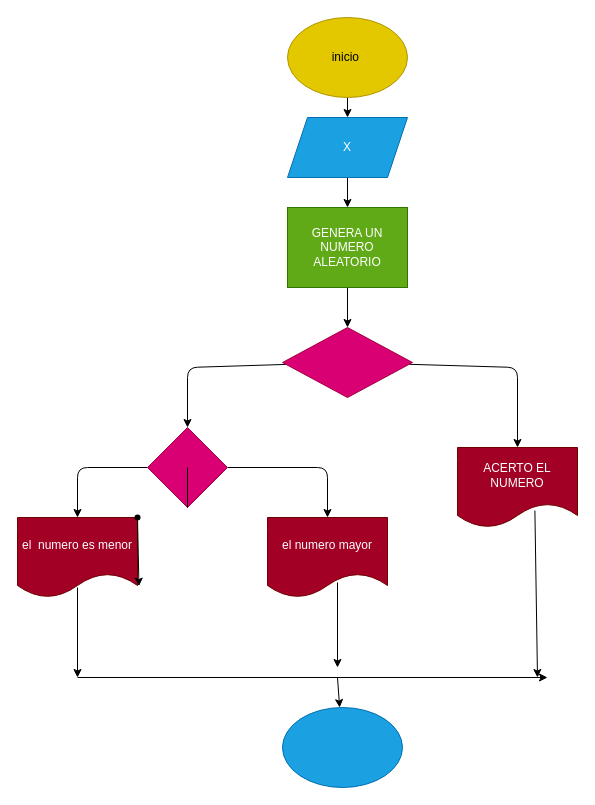
The diagram is 595 pixels wide and 805 high, and some of its shapes have lost their labels. The shapes that lost their labels are listed below. From the top down, each one's centre as x and y in pixels, then its label:
At (347,362): "X==NUMERO GENERADO".
At (187,467): "x<nuerado generado".
At (342,747): "fin".
